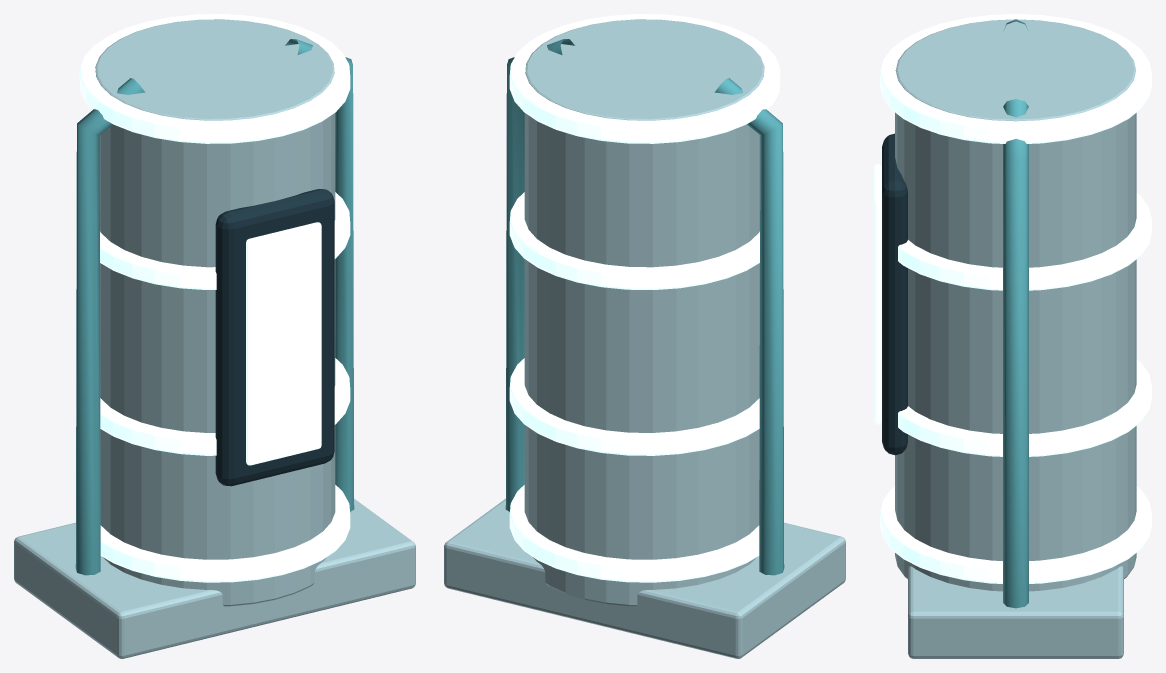
Rendered from SM_CryoPod.fbx.
The picture shows the model from 3 angles, left to right: view 1: azimuth 30°, elevation 25°; view 2: azimuth 150°, elevation 25°; view 3: azimuth 270°, elevation 25°; orthographic projection.
Parts seen in each view (by area): view 1: SM_CryoPod; view 2: SM_CryoPod; view 3: SM_CryoPod.
Boxes of the visible parts, left/top/right/bottom form: SM_CryoPod: left=14, top=14, right=415, bottom=658; SM_CryoPod: left=444, top=14, right=845, bottom=658; SM_CryoPod: left=874, top=14, right=1151, bottom=658.
Size of the model in its own units: 160 by 129 by 270.
